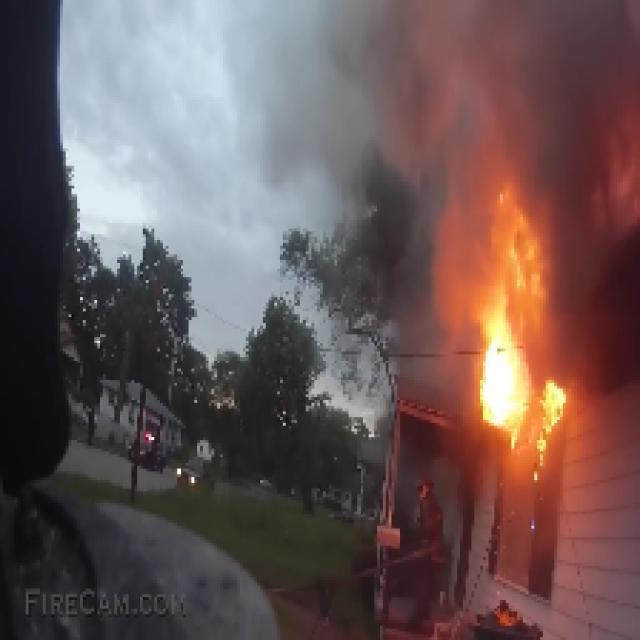Fire: (437, 183, 574, 488)
Smoke: (280, 9, 640, 398)
